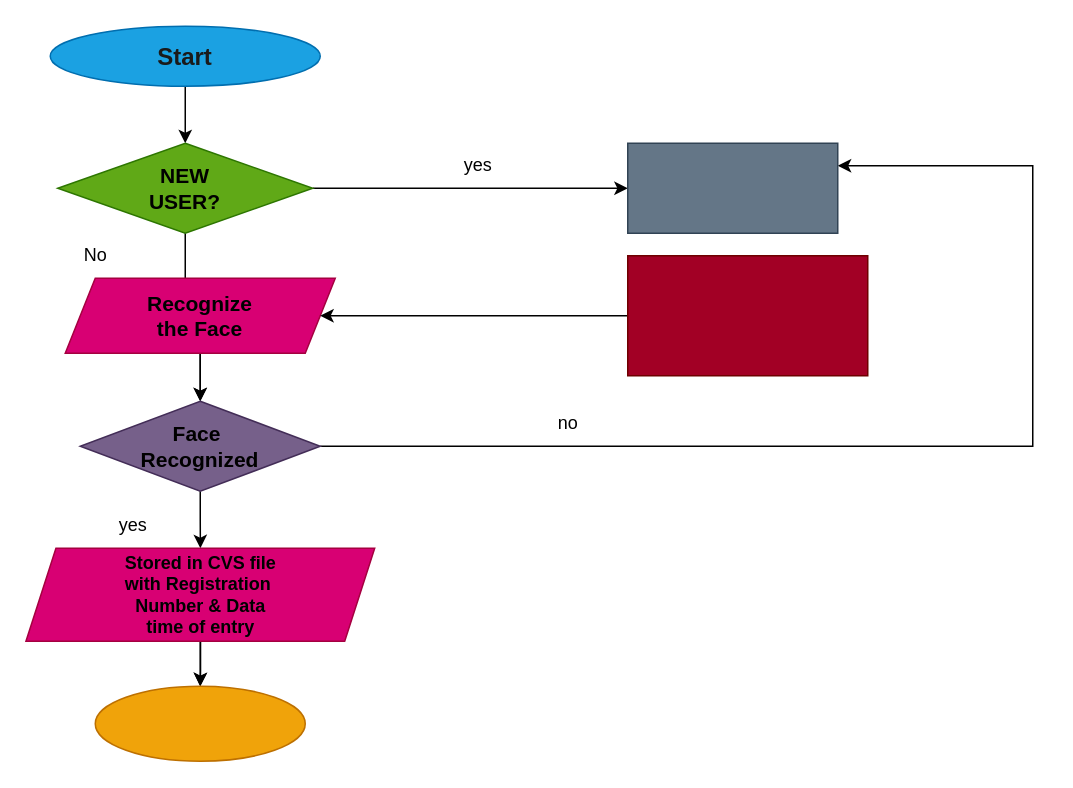
Some shapes in this 1073 by 788 pixel diagram are drawn without their labels. Each missing label, with the centre of its shape:
"End" goes at (x=199, y=723).
"Give your photograph" goes at (x=732, y=187).
"Store the face data in folder on your name" goes at (x=747, y=315).
